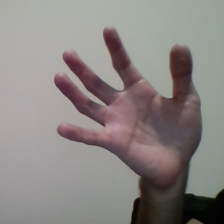left: (51, 19, 211, 178)
